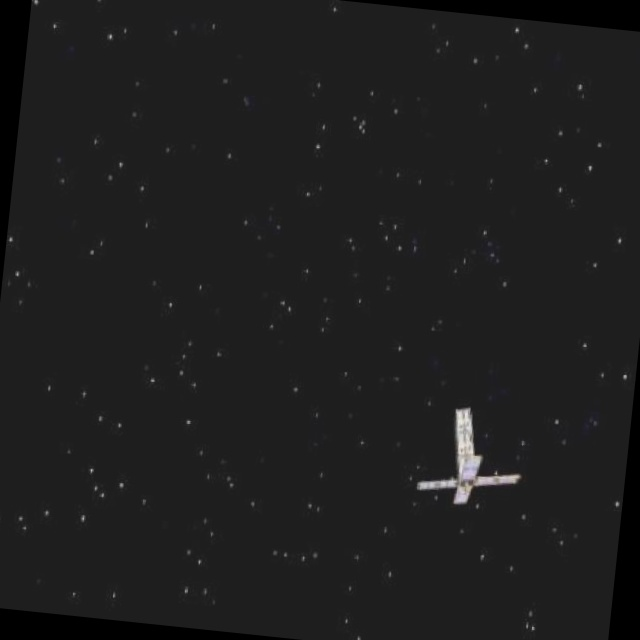satellite: (399, 404, 527, 523)
